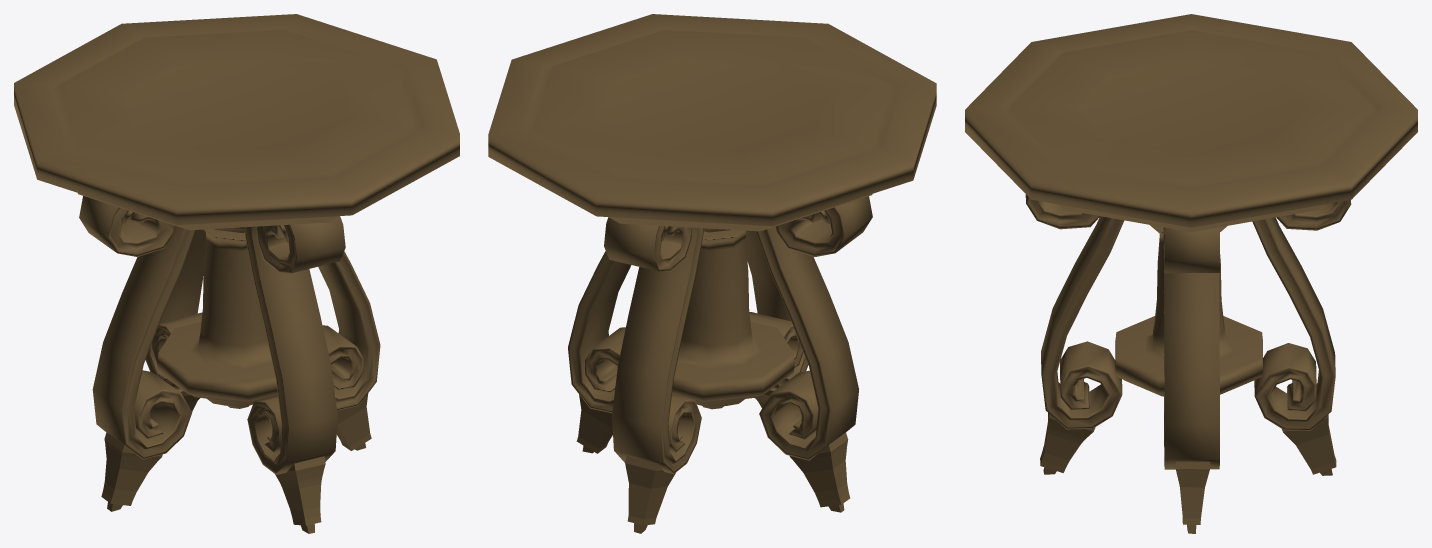
File: TableLP.fbx
3 renders of one model, left to right at view 1: azimuth 30°, elevation 25°; view 2: azimuth 150°, elevation 25°; view 3: azimuth 270°, elevation 25°, orthographic. The views are drawn at different scales.
Parts seen in each view (by area): view 1: lp; view 2: lp; view 3: lp.
Boxes of the visible parts, bbox=[...] form: lp: bbox=[14, 14, 459, 533]; lp: bbox=[488, 14, 936, 533]; lp: bbox=[965, 14, 1417, 533].
Size of the model in its own units: 2944 by 2629 by 2944.
